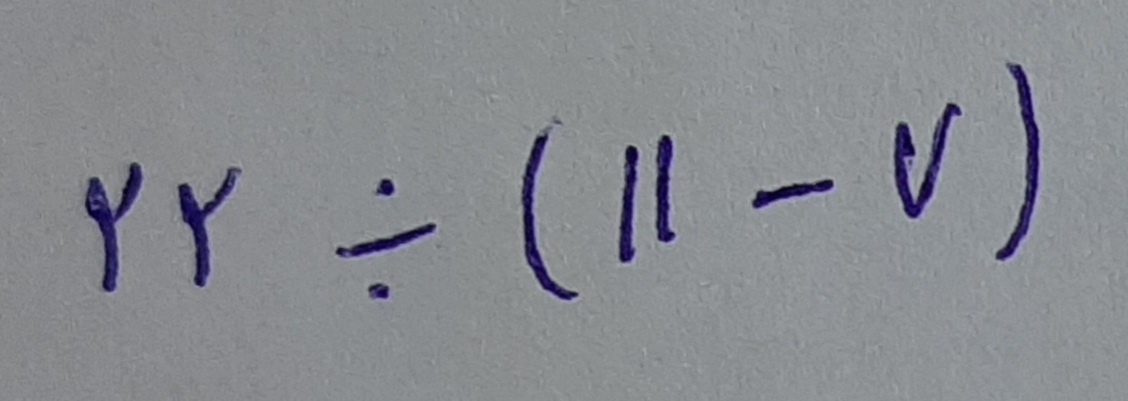character: (336, 180, 437, 300), (522, 120, 580, 300), (997, 65, 1041, 264), (892, 101, 963, 219), (176, 166, 238, 288), (87, 162, 144, 292), (616, 146, 641, 266), (750, 179, 832, 212), (655, 134, 677, 241)
